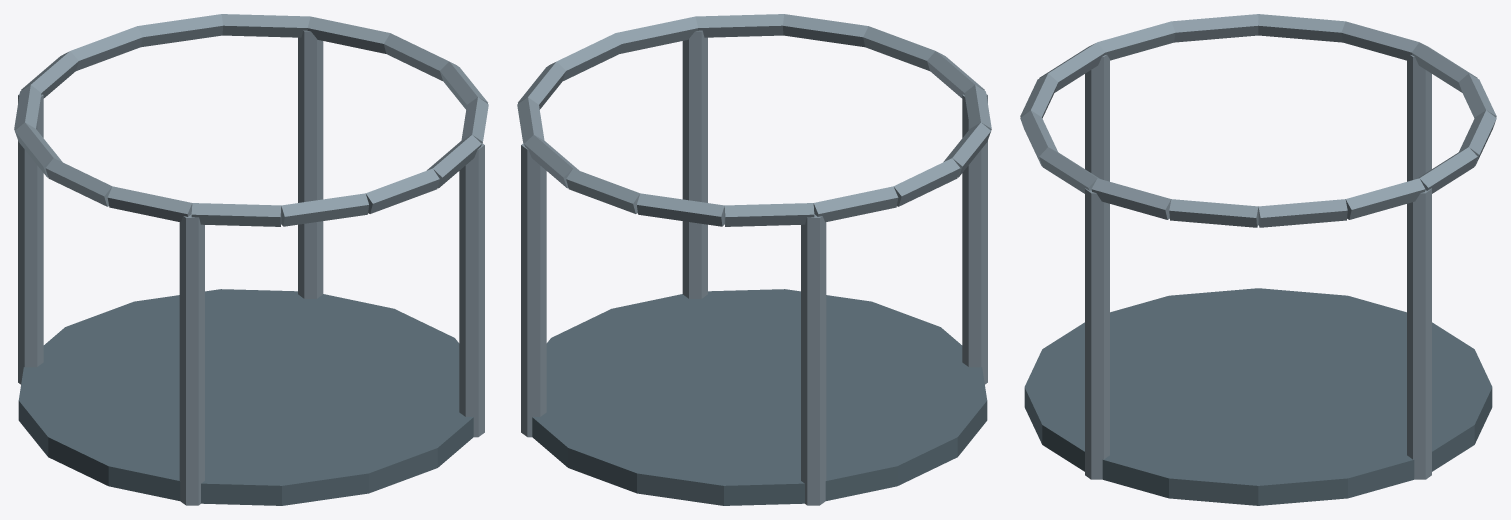
File: filter-unit.glb
3 views of the same model, side by side, from view 1: azimuth 30°, elevation 25°; view 2: azimuth 150°, elevation 25°; view 3: azimuth 270°, elevation 25° (orthographic).
Visible parts, largest first — view 1: filter-unit; view 2: filter-unit; view 3: filter-unit.
Boxes of the visible parts, x1=… form: filter-unit: x1=14, y1=14, x2=488, y2=505; filter-unit: x1=517, y1=14, x2=991, y2=505; filter-unit: x1=1020, y1=14, x2=1496, y2=505.
Bounding box in the file's own units: 0.7536 × 0.518 × 0.7536.
